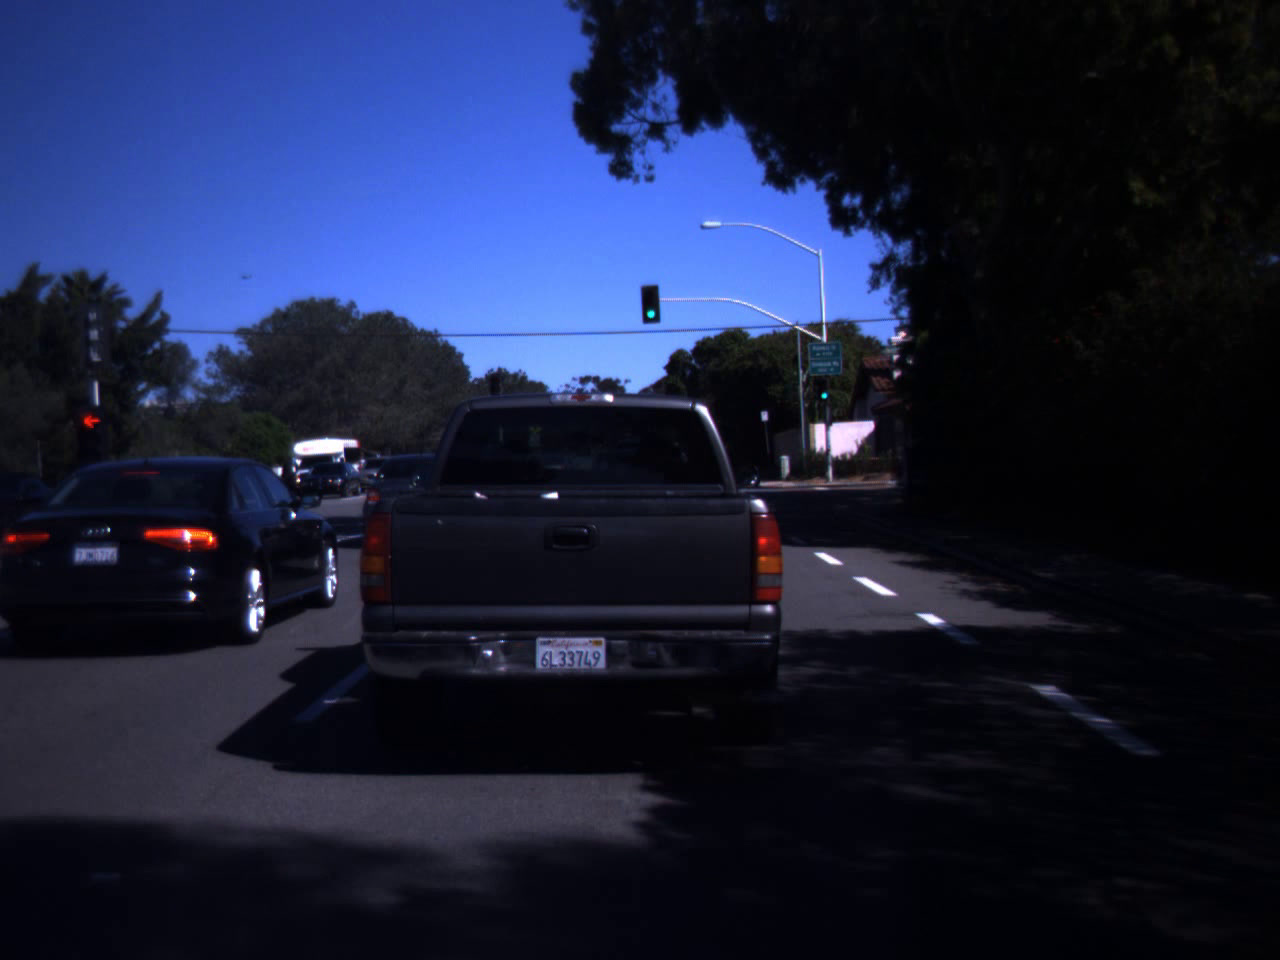go: (642, 290, 660, 320), (818, 379, 830, 399)
stop: (68, 410, 116, 464)
